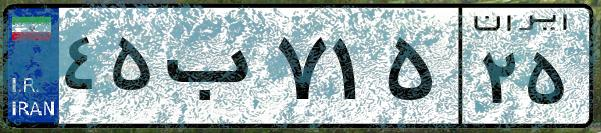1: (330, 28, 385, 110)
2: (475, 38, 525, 113)
4: (57, 26, 110, 100)
5: (385, 28, 445, 110), (525, 38, 570, 115), (110, 28, 158, 98)
7: (270, 28, 330, 110)
ب: (158, 20, 270, 120)
